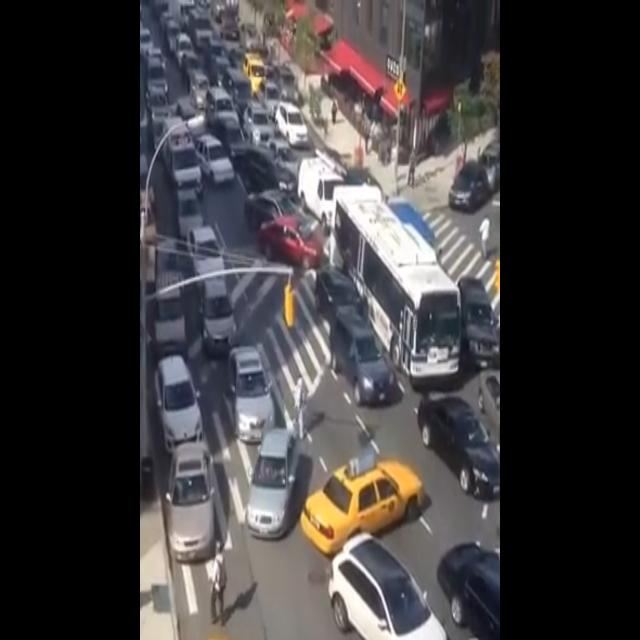Ambulance: (159, 112, 205, 202)
